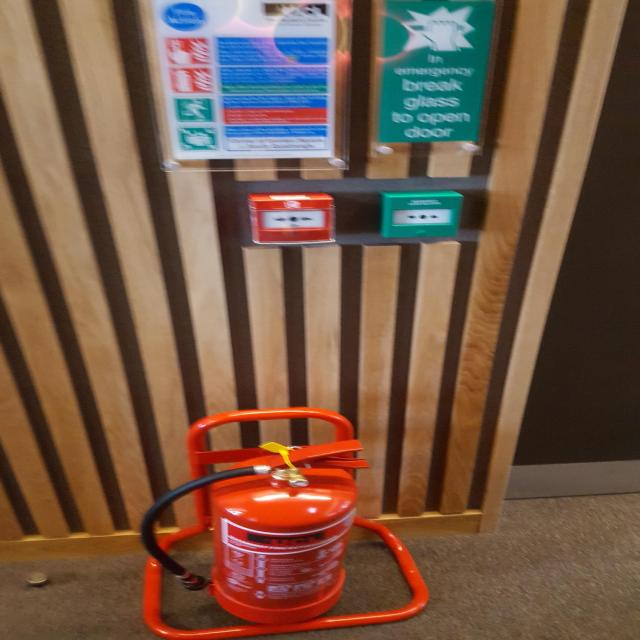fire_extinguisher: (132, 438, 373, 628)
